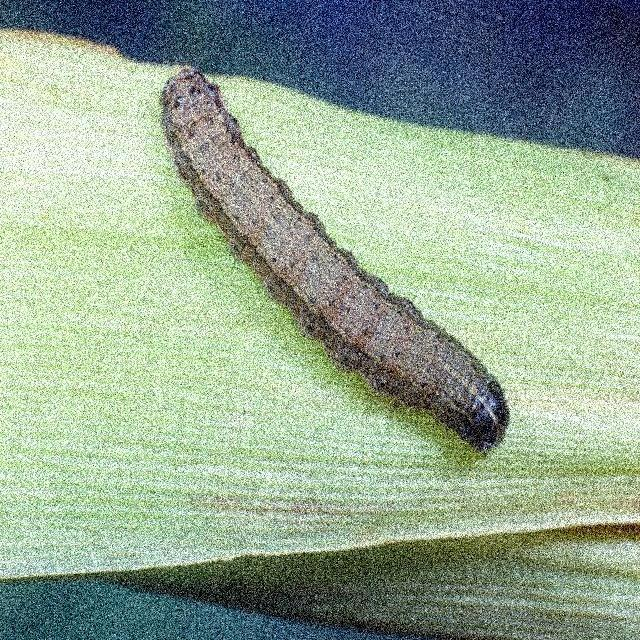worm: (159, 64, 511, 457)
